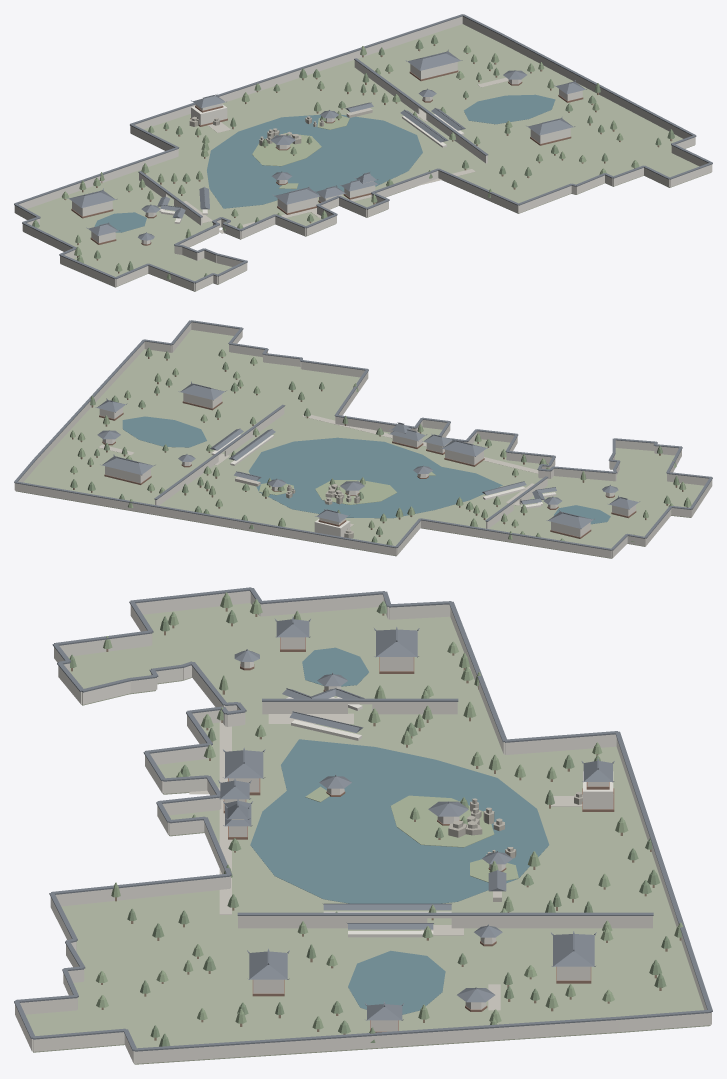
File: zhuozhengyuan.glb
The picture shows the model from 3 angles, top to bottom: view 1: azimuth 30°, elevation 25°; view 2: azimuth 150°, elevation 25°; view 3: azimuth 270°, elevation 25°; orthographic projection. The views are drawn at different scales.
Parts seen in each view (by area): view 1: zzy_ground, zzy_wall_white, zzy_water, zzy_tile, zzy_leaf_a, zzy_leaf_b, zzy_island, zzy_stone, zzy_wood, zzy_rock; view 2: zzy_ground, zzy_wall_white, zzy_water, zzy_tile, zzy_leaf_a, zzy_leaf_b, zzy_island, zzy_stone, zzy_wood, zzy_rock, zzy_trunk; view 3: zzy_ground, zzy_wall_white, zzy_water, zzy_tile, zzy_leaf_a, zzy_leaf_b, zzy_island, zzy_stone, zzy_wood, zzy_rock.
Boxes of the visible parts, left/top/right/bottom form: zzy_ground: left=15, top=24, right=711, bottom=291; zzy_wall_white: left=14, top=16, right=712, bottom=291; zzy_water: left=94, top=94, right=555, bottom=232; zzy_tile: left=14, top=14, right=712, bottom=283; zzy_leaf_a: left=62, top=45, right=639, bottom=279; zzy_leaf_b: left=32, top=34, right=674, bottom=276; zzy_island: left=252, top=116, right=349, bottom=188; zzy_stone: left=173, top=77, right=508, bottom=233; zzy_wood: left=71, top=70, right=583, bottom=245; zzy_rock: left=189, top=116, right=323, bottom=145; zzy_ground: left=16, top=330, right=703, bottom=558; zzy_wall_white: left=14, top=322, right=712, bottom=558; zzy_water: left=122, top=416, right=610, bottom=524; zzy_tile: left=14, top=320, right=712, bottom=550; zzy_leaf_a: left=70, top=349, right=691, bottom=545; zzy_leaf_b: left=70, top=347, right=679, bottom=542; zzy_island: left=259, top=472, right=435, bottom=504; zzy_stone: left=98, top=415, right=538, bottom=526; zzy_wood: left=99, top=401, right=636, bottom=538; zzy_rock: left=286, top=484, right=359, bottom=538; zzy_trunk: left=72, top=357, right=688, bottom=536; zzy_ground: left=25, top=603, right=710, bottom=1064; zzy_wall_white: left=15, top=591, right=711, bottom=1063; zzy_water: left=250, top=647, right=549, bottom=1014; zzy_tile: left=14, top=587, right=712, bottom=1051; zzy_leaf_a: left=96, top=592, right=682, bottom=1029; zzy_leaf_b: left=69, top=601, right=671, bottom=1046; zzy_island: left=305, top=786, right=518, bottom=882; zzy_stone: left=189, top=713, right=582, bottom=1010; zzy_wood: left=223, top=637, right=614, bottom=1032; zzy_rock: left=448, top=792, right=613, bottom=858.
Size of the model in its own units: 359 by 14.29 by 229.
